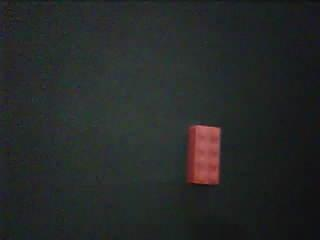lego: (184, 124, 222, 185)
